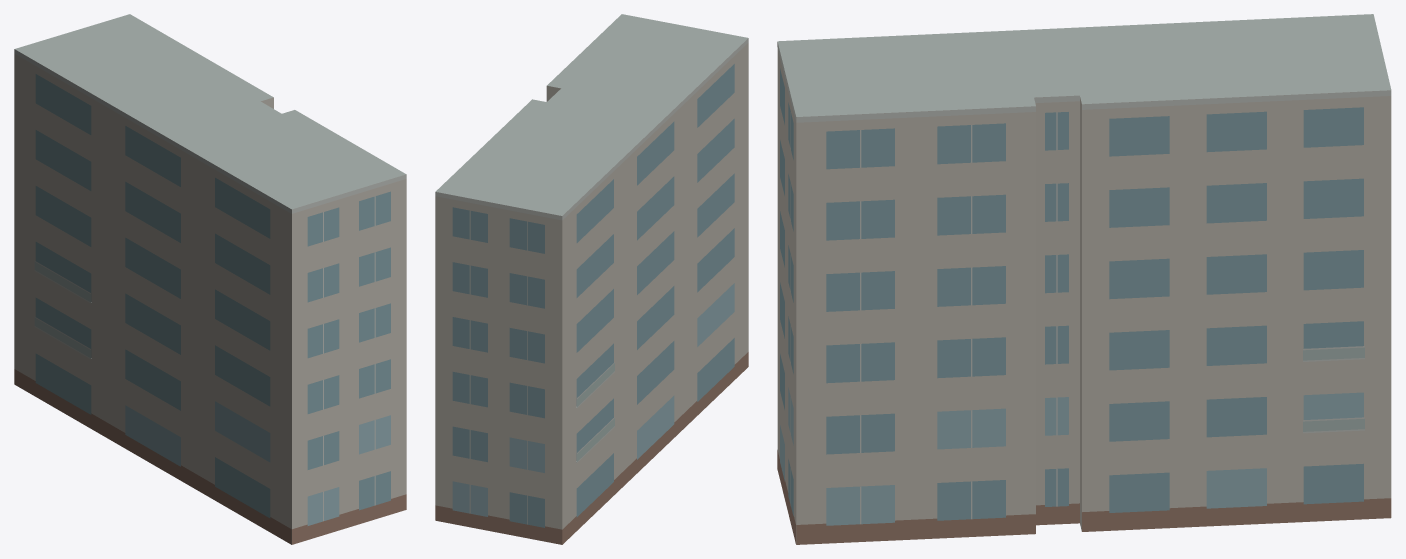
Rendered from survey-upis-33038659.glb.
The picture shows the model from 3 angles, left to right: view 1: azimuth 30°, elevation 25°; view 2: azimuth 150°, elevation 25°; view 3: azimuth 270°, elevation 25°; orthographic projection. The views are drawn at different scales.
Parts seen in each view (by area): view 1: survey-upis-33038659.tmp; view 2: survey-upis-33038659.tmp; view 3: survey-upis-33038659.tmp.
Part boxes in pixels (box(x1,y1,x2,y2)): survey-upis-33038659.tmp: box(14, 14, 406, 544); survey-upis-33038659.tmp: box(435, 14, 748, 544); survey-upis-33038659.tmp: box(777, 14, 1391, 544).
Bounding box in the file's own units: 9.42 × 18.2 × 23.68.
